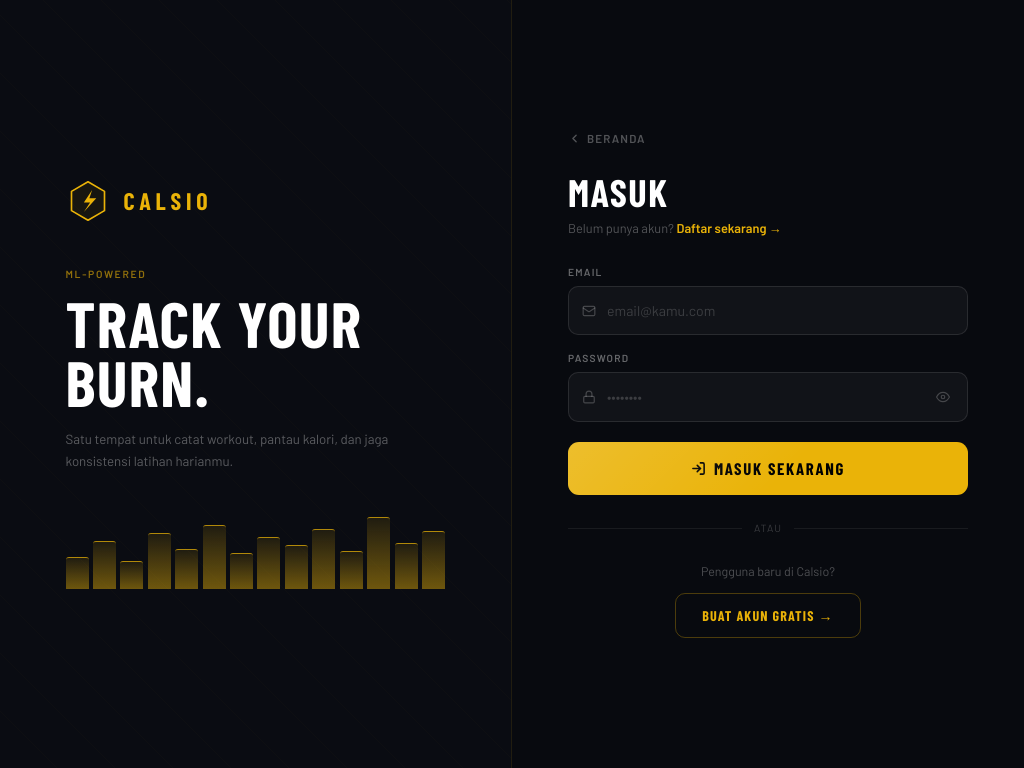
Test: Auth - Login Flow › validasi format email tidak valid
Type "emailtidakvalid" into the field with placeholder "email@kamu.com" at [768, 311], box [569,287,967,334]
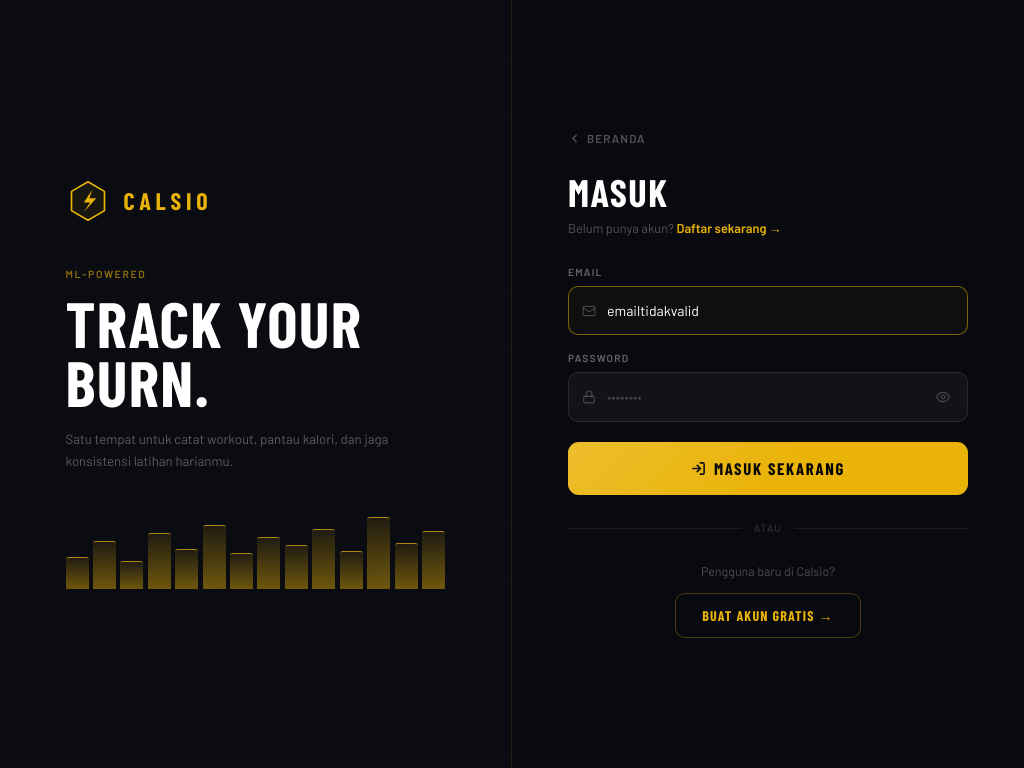
Type "password123" into the password field with placeholder "••••••••" at [768, 398], box [569,374,967,421]
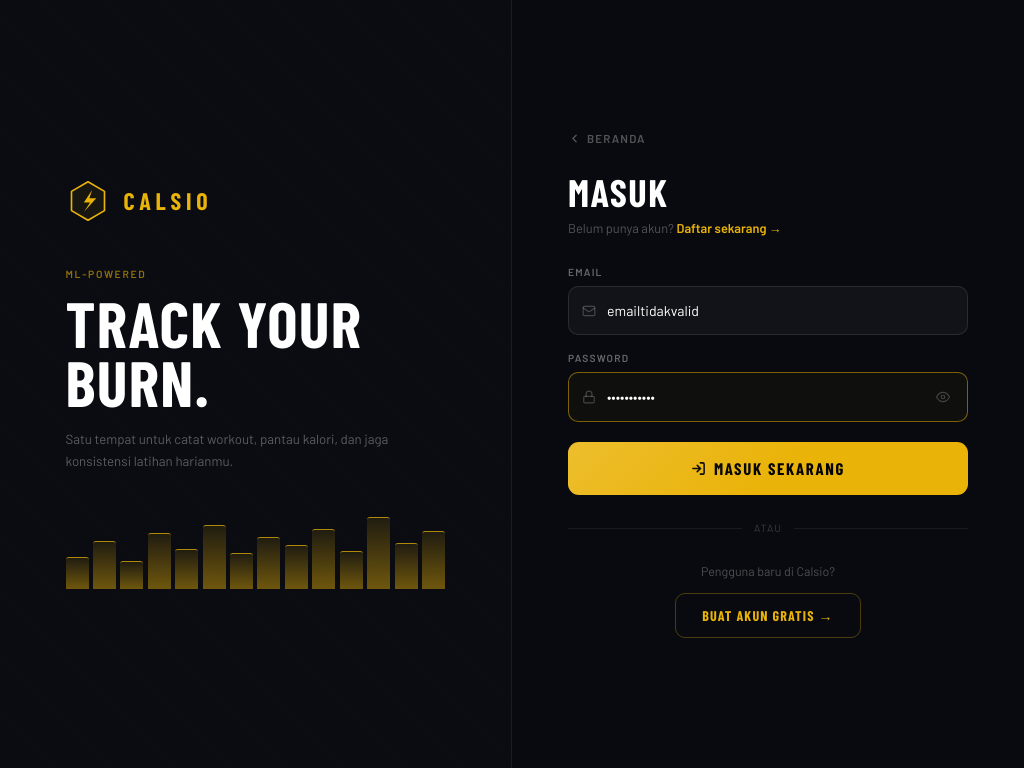
Click the button "Masuk Sekarang" at [768, 469], box [568,442,968,495]
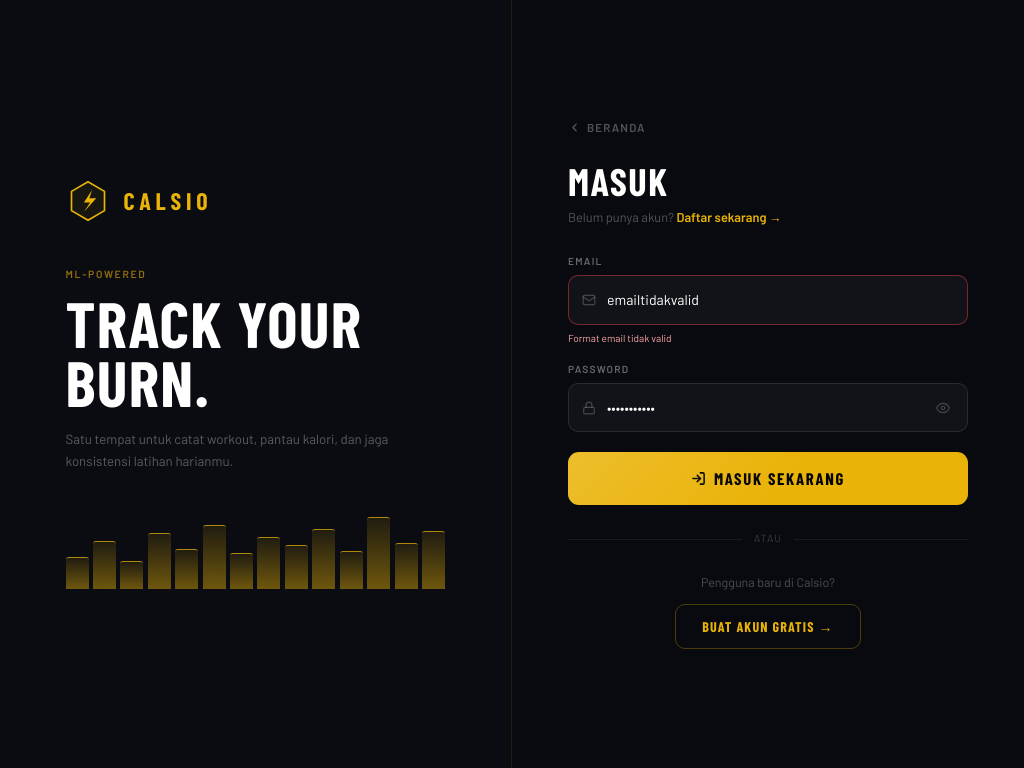
Expected: the text "Format email tidak valid" is shown, [568,332,672,344]
